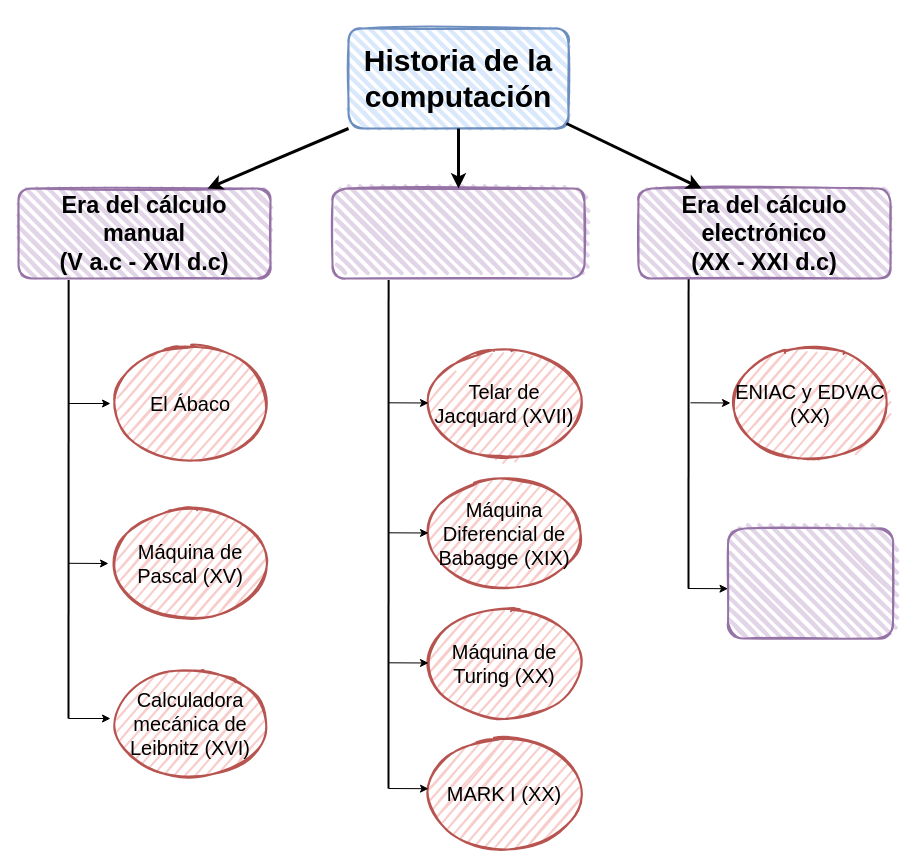
The diagram is 911 pixels wide and 866 high, and some of its shapes have lost their labels. The box of each missing label's shape, as (x1, y1, x2, y2) in pixels:
Era del cálculo electromecánico (XVll - XX d.c): (331, 187, 585, 279)
Generaciones de computadoras: (726, 527, 894, 639)
ssss: (347, 27, 569, 129)
